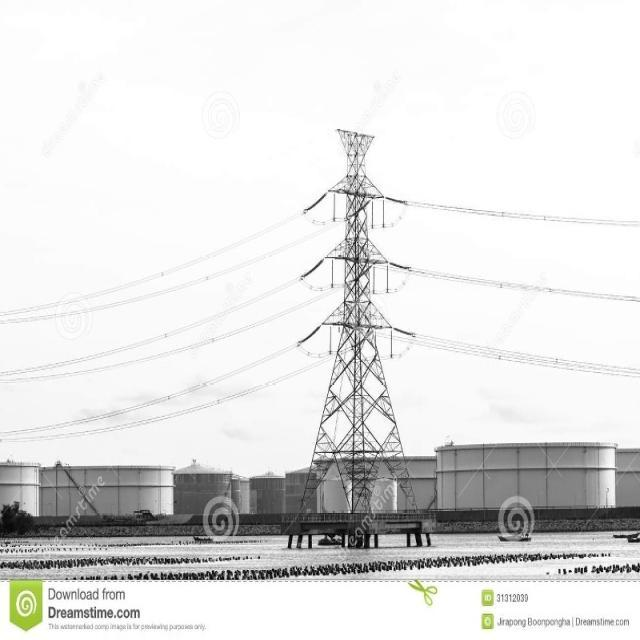non-critical vegetation: (292, 111, 428, 528)
